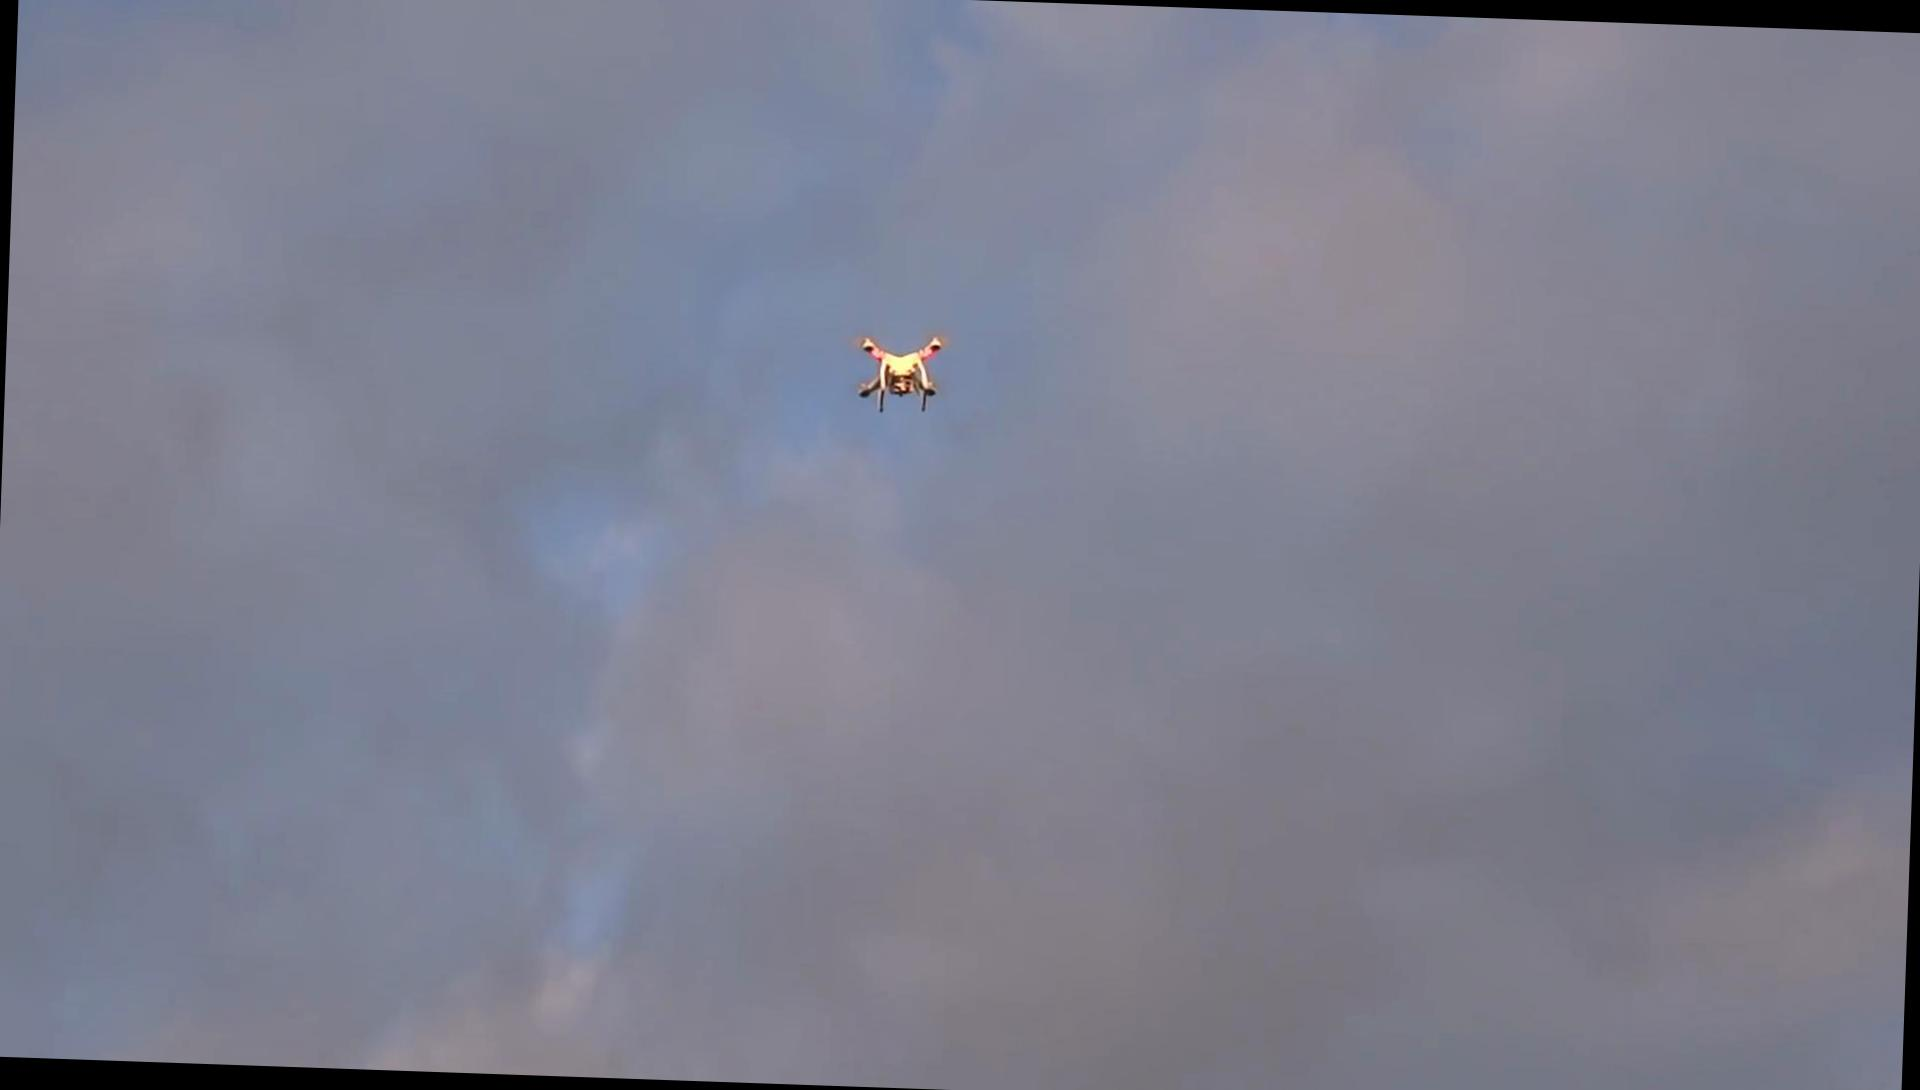drone: (851, 326, 948, 419)
